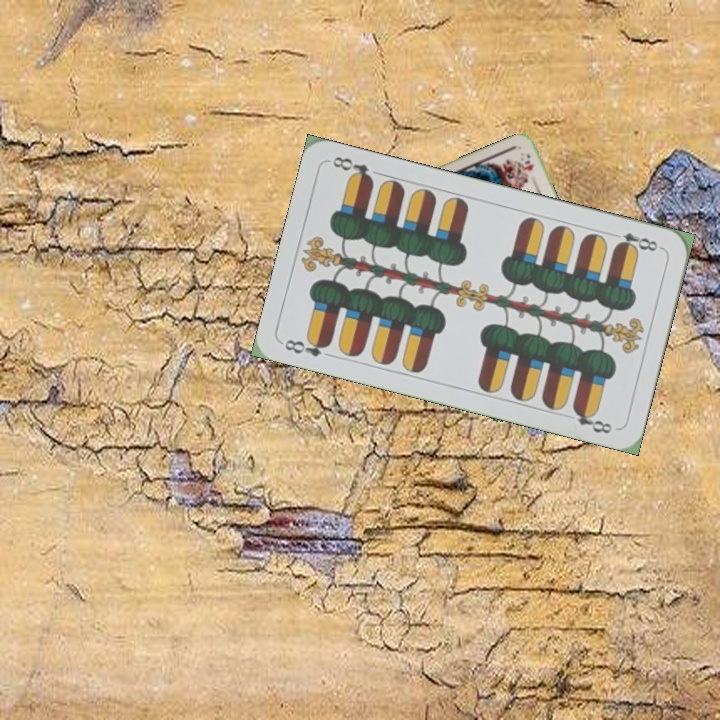E8: (607, 228, 665, 255), (280, 333, 334, 360)
